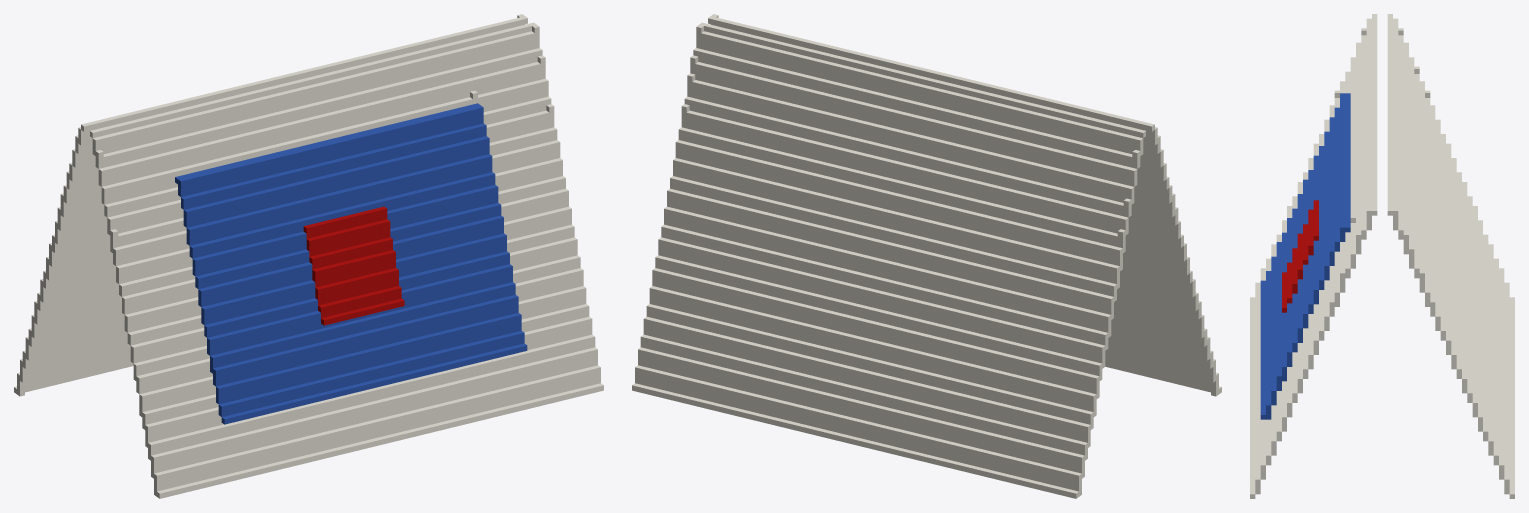
Rendered from greeting_card.glb.
3 renders of one model, left to right at view 1: azimuth 30°, elevation 25°; view 2: azimuth 150°, elevation 25°; view 3: azimuth 270°, elevation 25°, orthographic. The views are drawn at different scales.
Visible parts, largest first — view 1: greeting_card:compound; view 2: greeting_card:compound; view 3: greeting_card:compound.
Part boxes in pixels (<box>): greeting_card:compound: <box>14,14,603,498</box>; greeting_card:compound: <box>632,14,1221,498</box>; greeting_card:compound: <box>1250,14,1514,498</box>.
Bounding box in the file's own units: 0.176 × 0.12 × 0.1.
